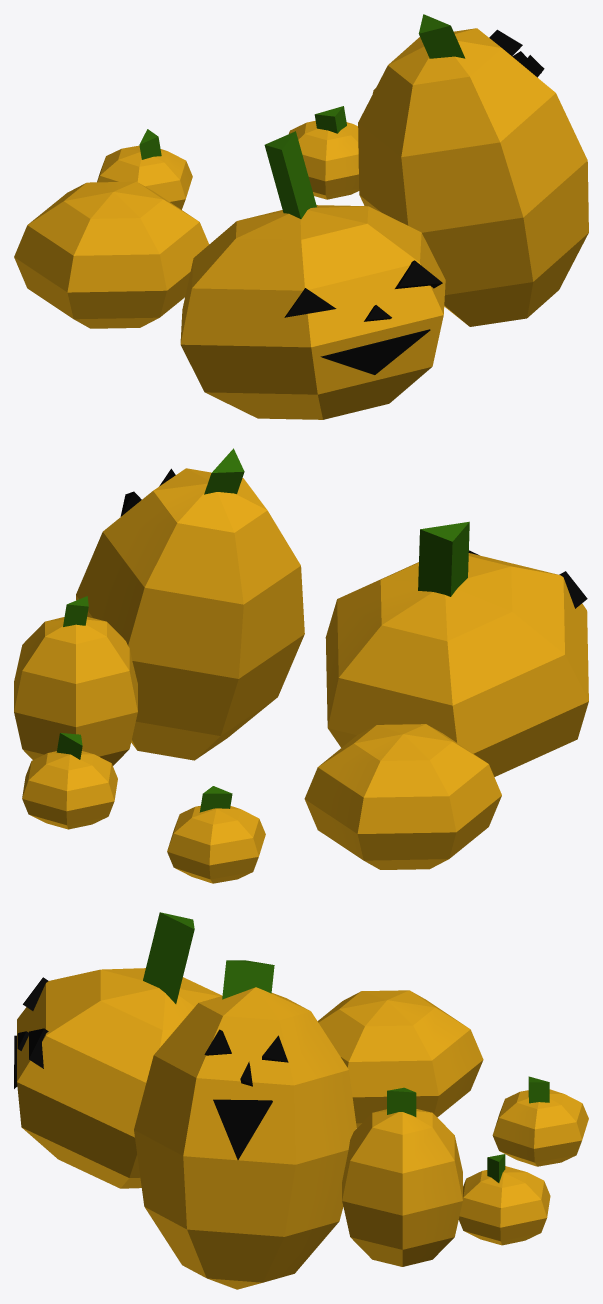
File: townsquare_pumpkins.fbx
The picture shows the model from 3 angles, top to bottom: view 1: azimuth 30°, elevation 25°; view 2: azimuth 150°, elevation 25°; view 3: azimuth 270°, elevation 25°; orthographic projection. The views are drawn at different scales.
Parts seen in each view (by area): view 1: polySurface170; view 2: polySurface170; view 3: polySurface170.
Boxes of the visible parts, bbox=[...] form: polySurface170: bbox=[14, 14, 588, 419]; polySurface170: bbox=[14, 448, 588, 883]; polySurface170: bbox=[14, 912, 588, 1289].
Bounding box in the file's own units: 58.66 × 37.79 × 65.53.
Materials: 1 (1 with a texture image).
